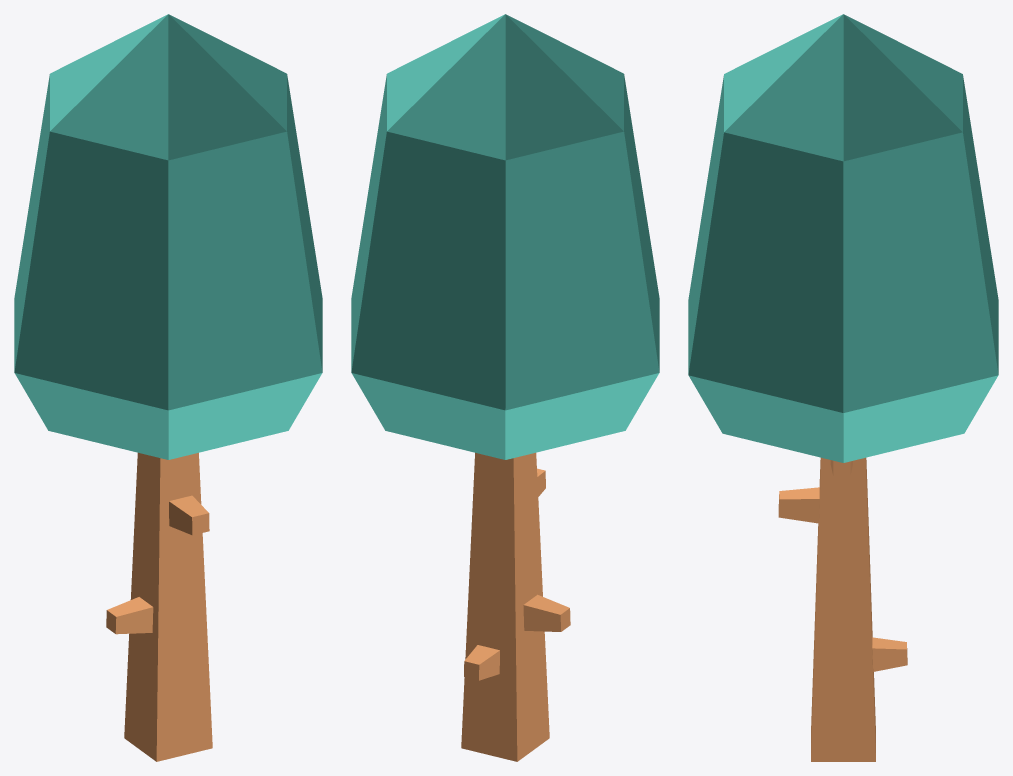
Rendered from tree_default.obj.
3 views of the same model, side by side, from view 1: azimuth 30°, elevation 25°; view 2: azimuth 150°, elevation 25°; view 3: azimuth 270°, elevation 25° (orthographic).
Parts seen in each view (by area): view 1: tree_default; view 2: tree_default; view 3: tree_default.
Part boxes in pixels (bbox=[...]): tree_default: bbox=[14, 14, 322, 761]; tree_default: bbox=[351, 14, 659, 761]; tree_default: bbox=[688, 14, 998, 761].
Bounding box in the file's own units: 7.55 × 17.08 × 6.54.
